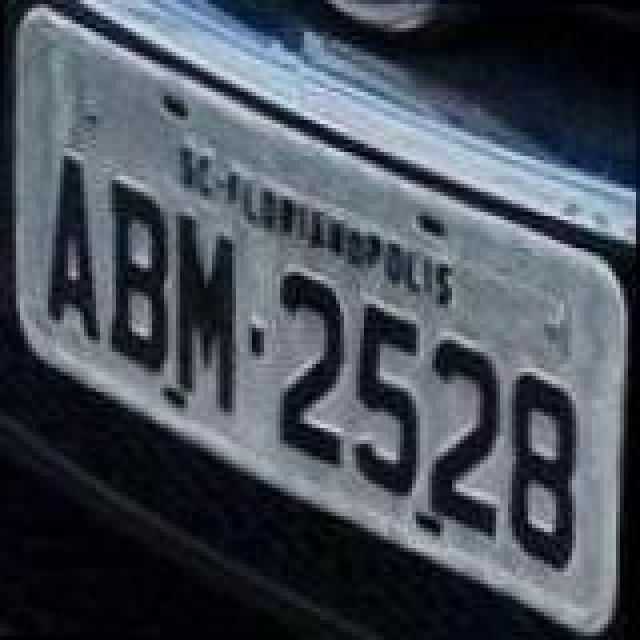2: (420, 338, 508, 546), (276, 266, 356, 470)
5: (350, 302, 430, 502)
8: (502, 368, 586, 576)
A: (46, 158, 114, 346)
B: (104, 176, 176, 376)
M: (168, 210, 240, 418)
